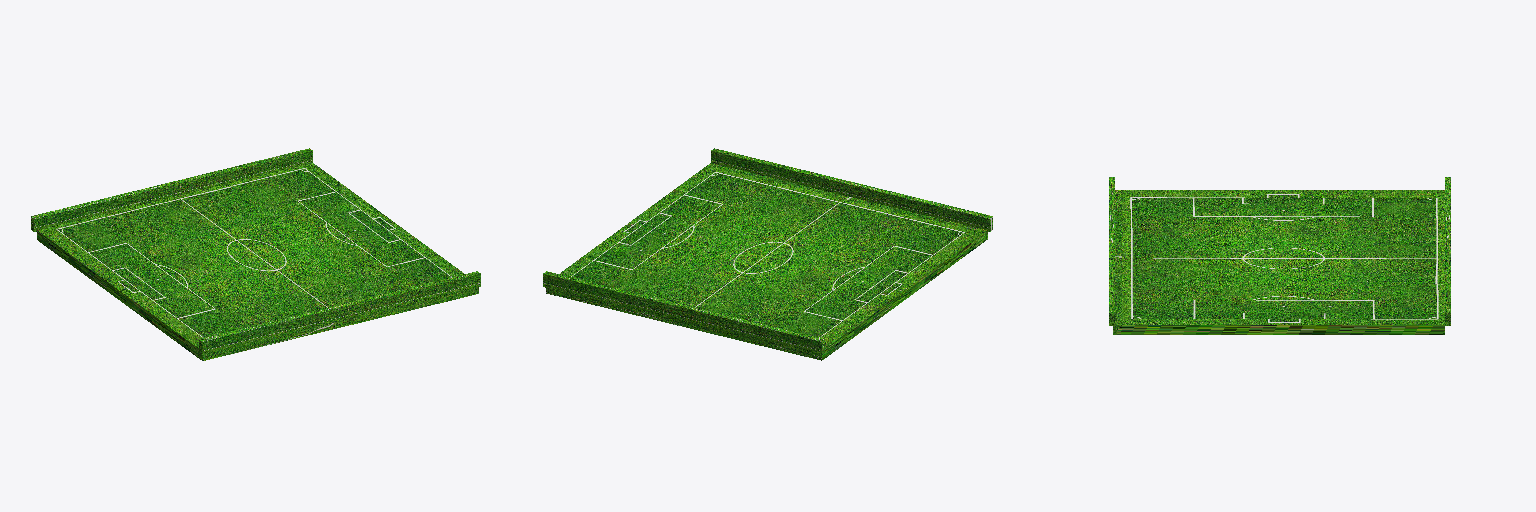
The picture shows the model from 3 angles: view 1: azimuth 30°, elevation 25°; view 2: azimuth 150°, elevation 25°; view 3: azimuth 270°, elevation 25°; orthographic projection.
Visible parts, largest first — view 1: Mesa_style; view 2: Mesa_style; view 3: Mesa_style.
Boxes of the visible parts, <box> form: Mesa_style: <box>31,148,480,360</box>; Mesa_style: <box>543,148,992,360</box>; Mesa_style: <box>1109,177,1450,334</box>.
Size of the model in its own units: 19.91 by 1.5 by 21.17.
Materials: 1 (1 with a texture image).